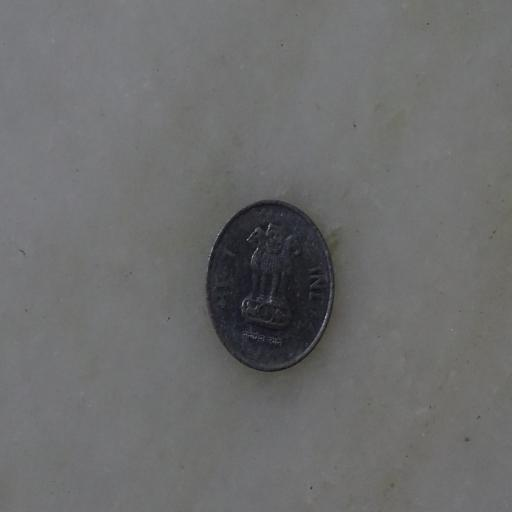rupee2: (203, 199, 335, 372)
